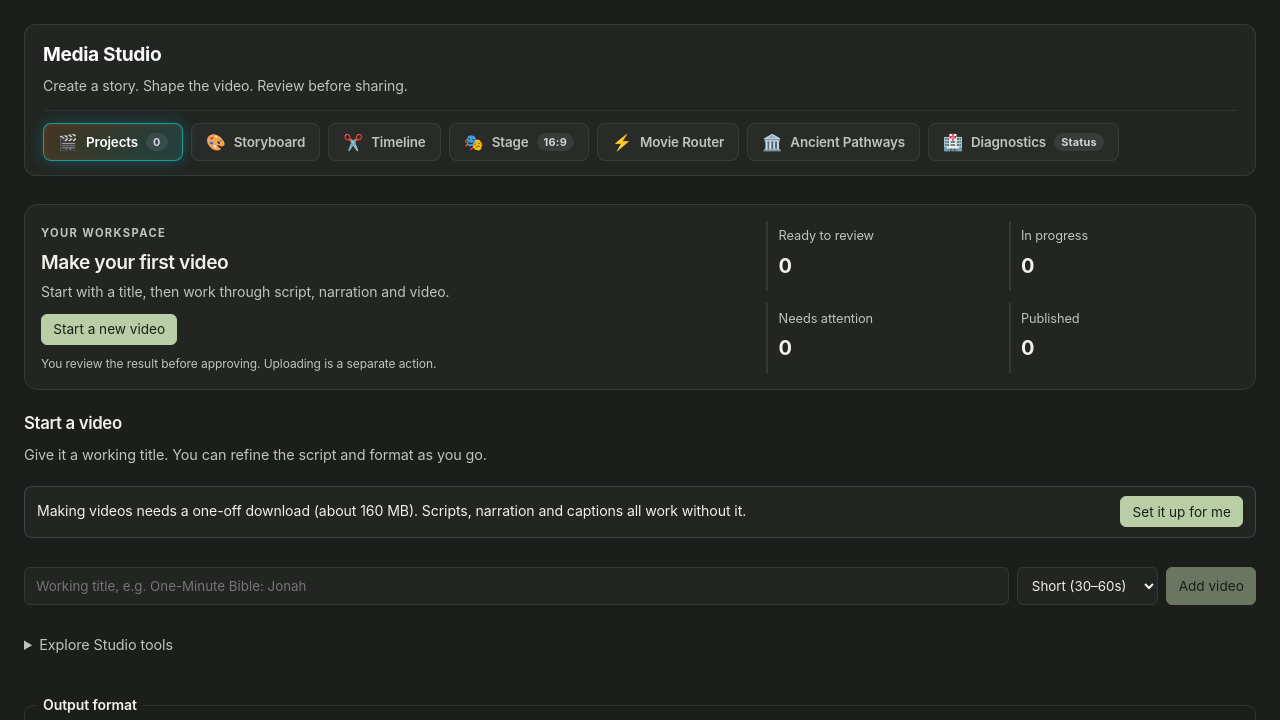
Scenario: progress is shown in megabytes, not as a bare spinner
Click the button "Set it up for me" at (1182, 512), box [1120,496,1243,527]
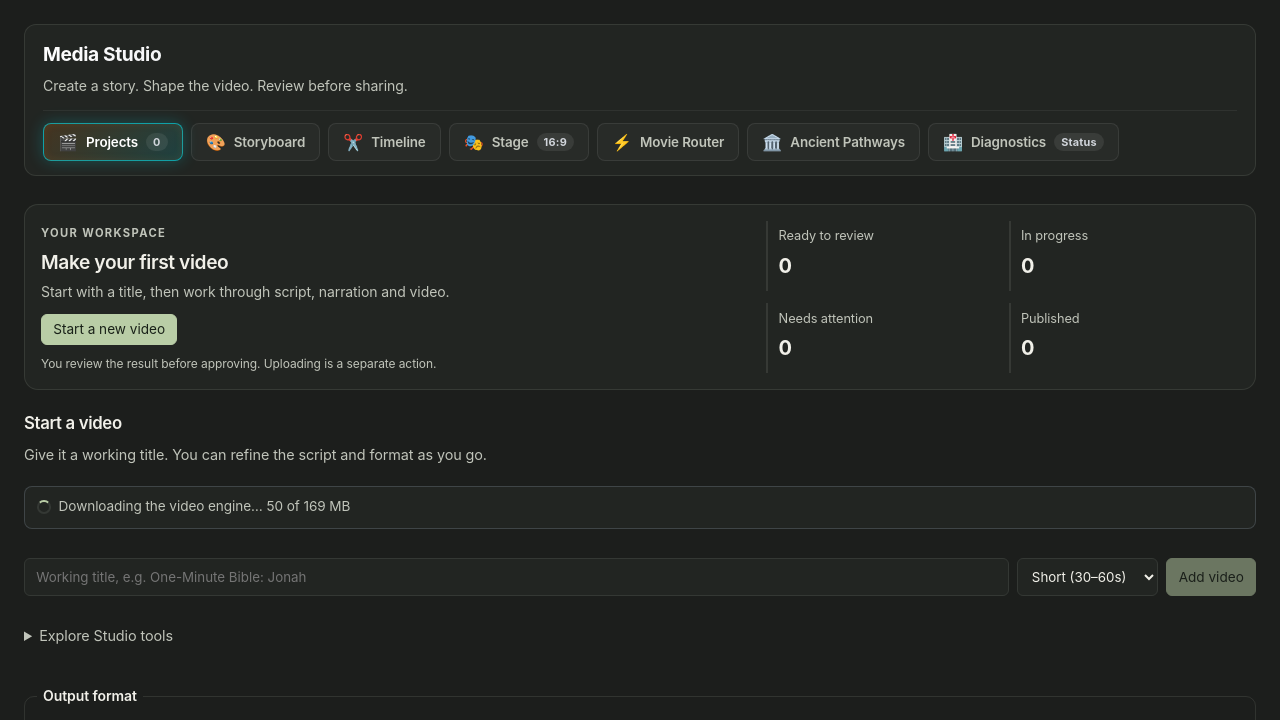
Check: the text "Downloading the video engine… 50 of 169 MB" is shown, box [37,496,350,518]
